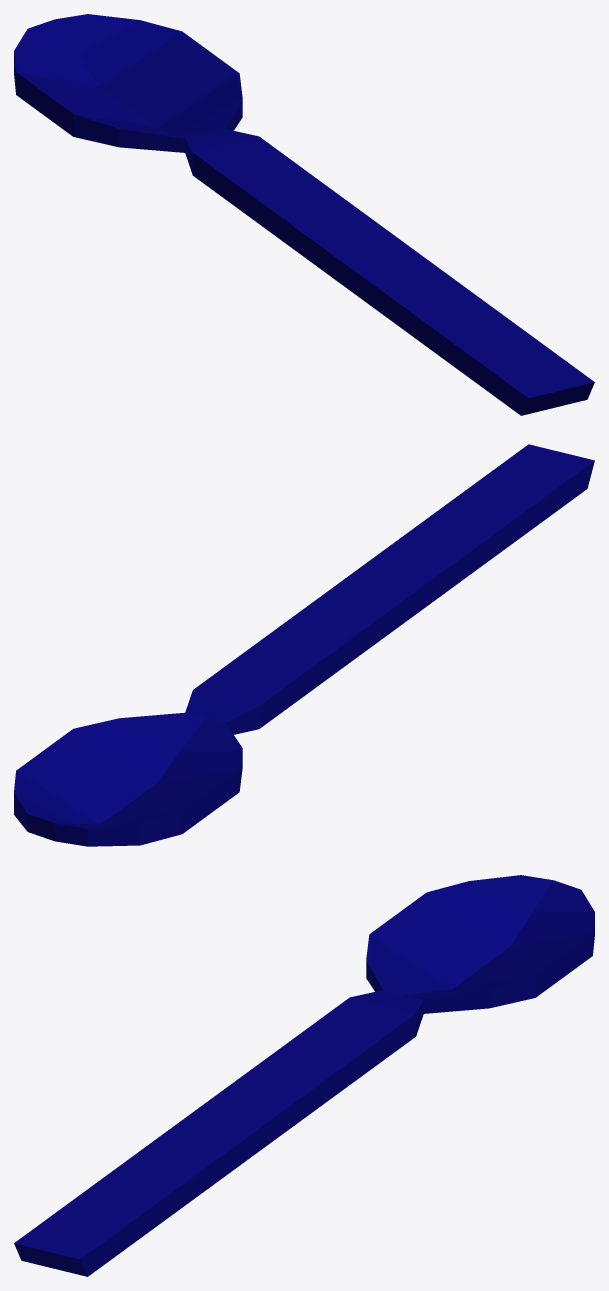
File: EA03_Items_House_Spoon_01a.glb
3 views of the same model, one above another, from view 1: azimuth 30°, elevation 25°; view 2: azimuth 150°, elevation 25°; view 3: azimuth 330°, elevation 25° (orthographic).
Visible parts, largest first — view 1: EA03_Items_House_Spoon_01a; view 2: EA03_Items_House_Spoon_01a; view 3: EA03_Items_House_Spoon_01a.
Boxes of the visible parts, x1,y1,x2,y2 form: EA03_Items_House_Spoon_01a: (14,14,594,415); EA03_Items_House_Spoon_01a: (14,444,594,846); EA03_Items_House_Spoon_01a: (14,875,594,1276).
Size of the model in its own units: 0.0735 by 0.0172 by 0.3881.
Materials: 1 (1 with a texture image).
